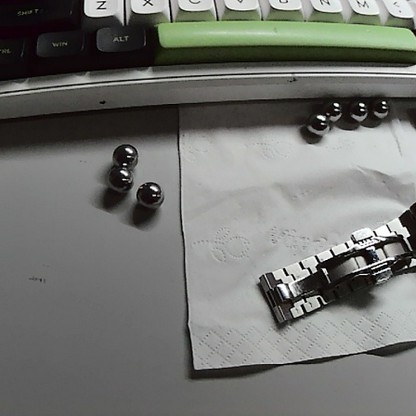ironball: (365, 93, 395, 125), (101, 165, 133, 193), (135, 182, 163, 210), (344, 97, 370, 122), (112, 142, 136, 165), (305, 111, 327, 133), (324, 96, 341, 116)
